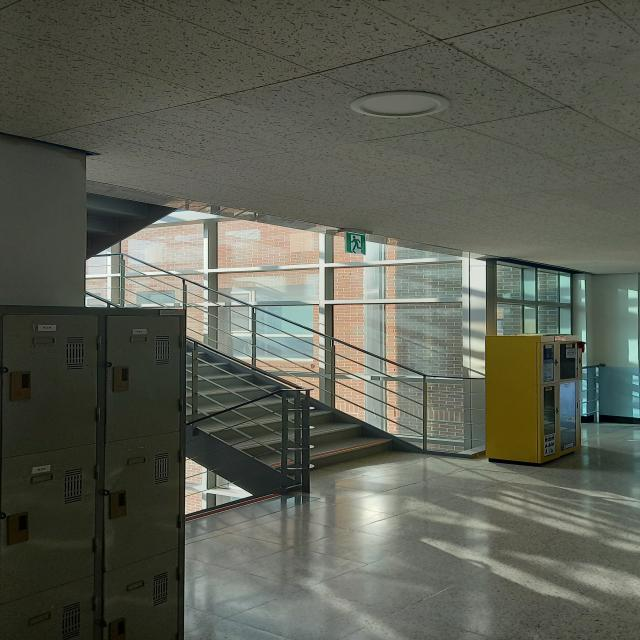person: (344, 232, 370, 257)
